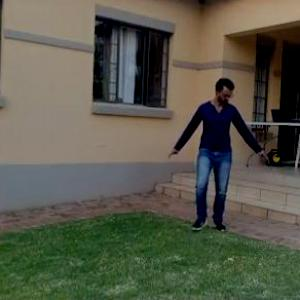land: (164, 76, 261, 235)
